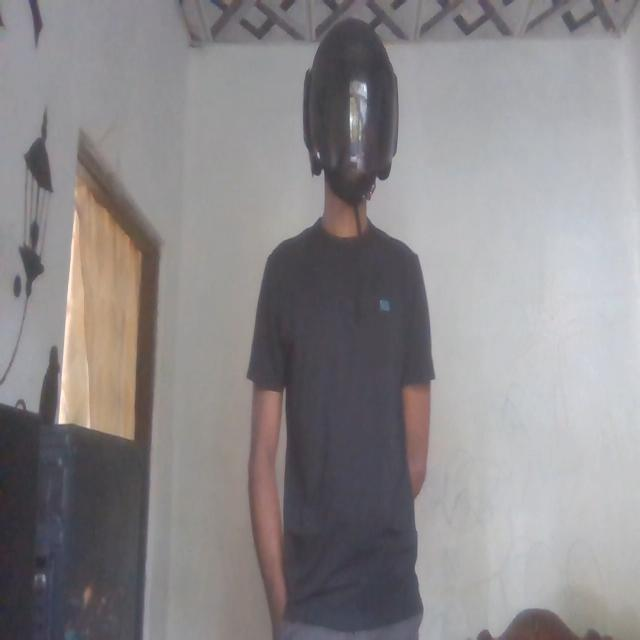Helmet_Wearer: (296, 0, 402, 266)
Person: (250, 0, 434, 640)
